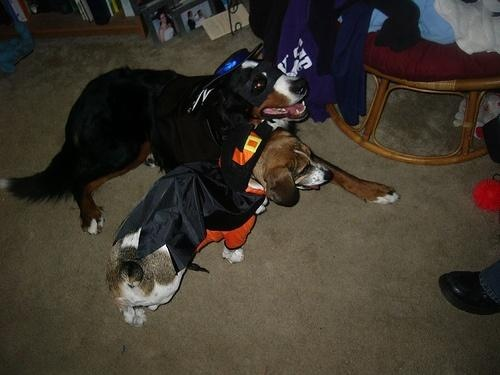dog: (1, 54, 311, 237), (107, 129, 334, 328)
